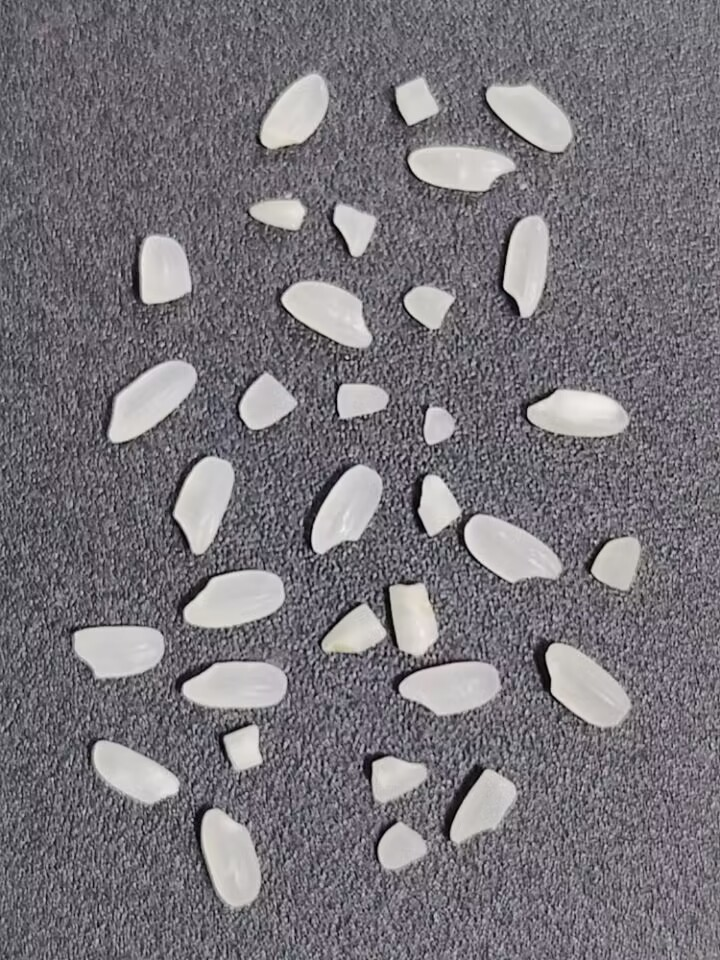broken: (447, 766, 524, 846), (236, 369, 300, 433), (137, 234, 192, 306), (389, 582, 440, 656), (414, 470, 466, 540), (319, 602, 387, 655), (369, 752, 431, 805), (328, 199, 380, 260), (373, 818, 428, 873), (589, 536, 643, 592), (390, 75, 445, 129), (401, 282, 458, 332), (332, 381, 389, 423), (244, 196, 308, 233), (224, 725, 263, 772), (417, 403, 459, 446)
rice: (457, 509, 566, 595), (102, 357, 199, 447), (302, 455, 386, 558), (542, 642, 632, 731), (274, 280, 376, 351), (169, 455, 238, 556), (199, 805, 262, 910), (179, 570, 287, 628), (256, 69, 331, 150), (487, 82, 572, 153), (181, 658, 292, 711), (68, 623, 166, 683), (500, 214, 554, 322), (92, 740, 181, 805), (523, 386, 631, 439), (406, 145, 518, 193), (399, 662, 501, 714)
